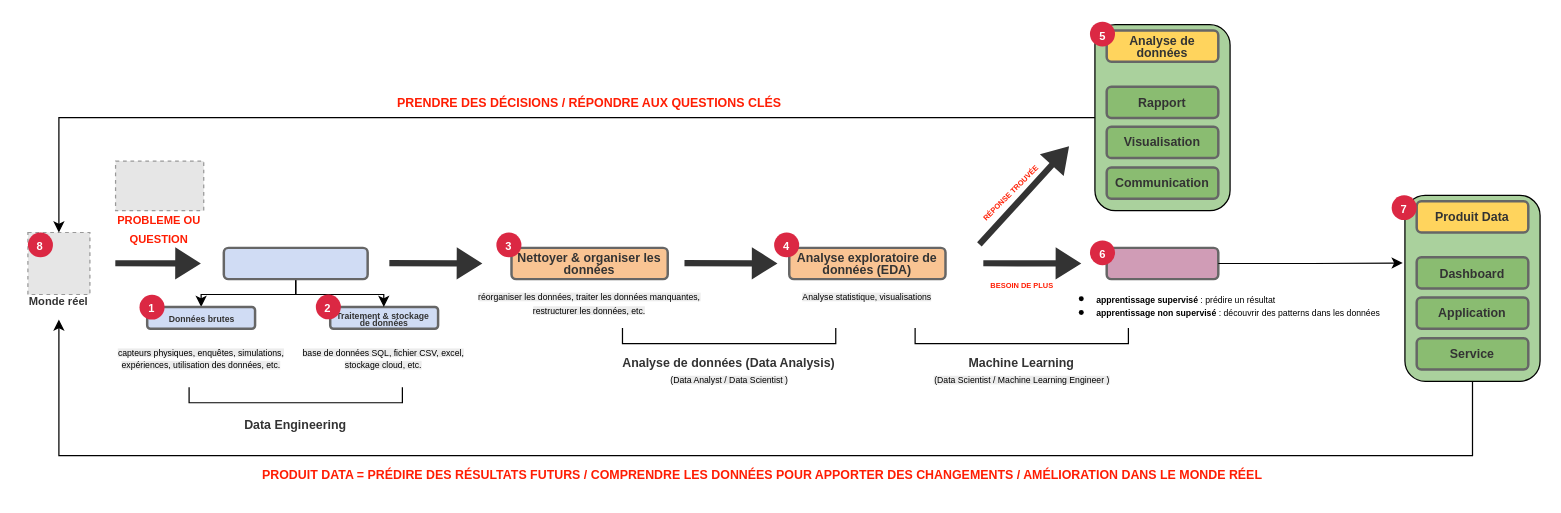
Some shapes in this 1561 by 513 pixel diagram are drawn without their labels. Grey dashed boxes stand in for pictures. The shapes that lost their labels are listed below. From the top down, each one's centre as x and y in pixels, then its label:
At [295,263]: "Collecter & stocker les données".
At [1162,263]: "Modèles de machine learning".
